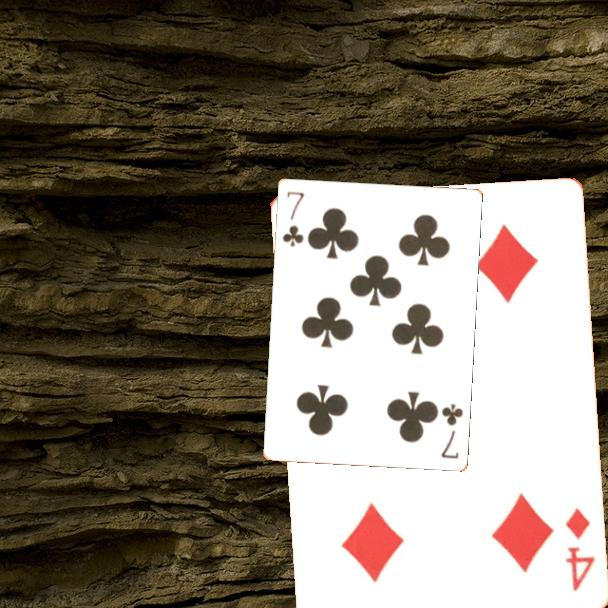c07: (279, 188, 307, 249), (437, 400, 465, 461)
d04: (561, 504, 597, 593)
